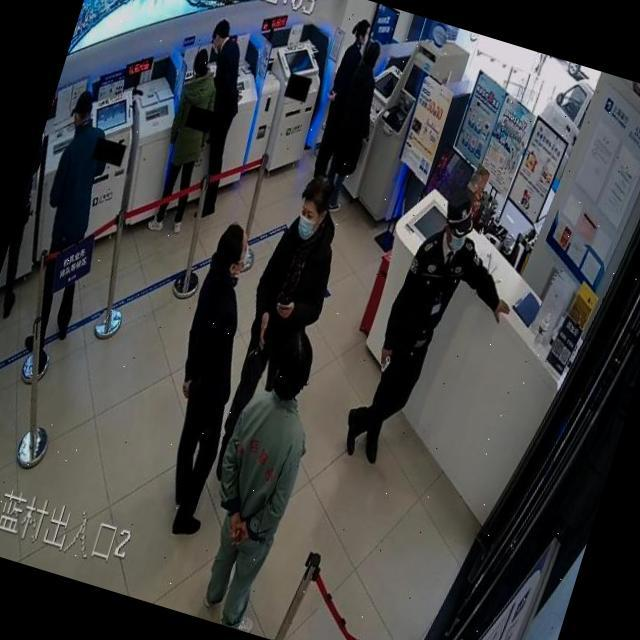person: (337, 175, 541, 490), (195, 166, 359, 507), (129, 215, 288, 538), (176, 318, 338, 633), (0, 84, 140, 379), (0, 85, 138, 377), (159, 16, 270, 222), (139, 44, 234, 240), (140, 44, 234, 240), (0, 108, 71, 322), (313, 38, 397, 215), (304, 16, 374, 181)
